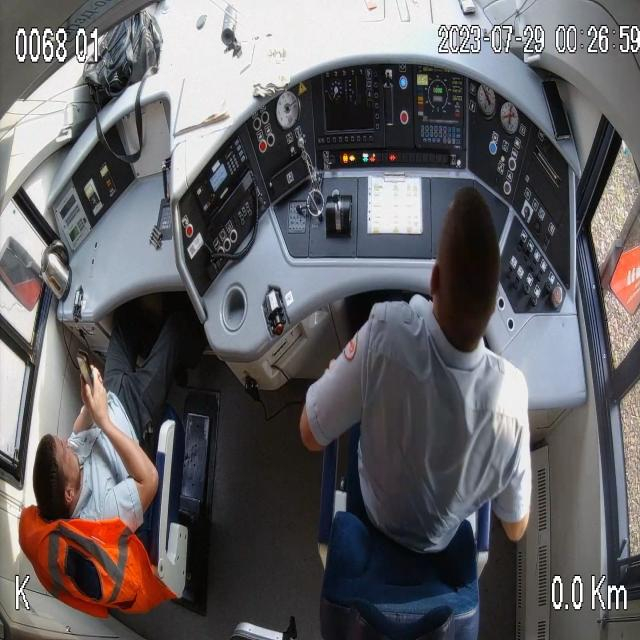smartphone: (74, 346, 108, 435)
